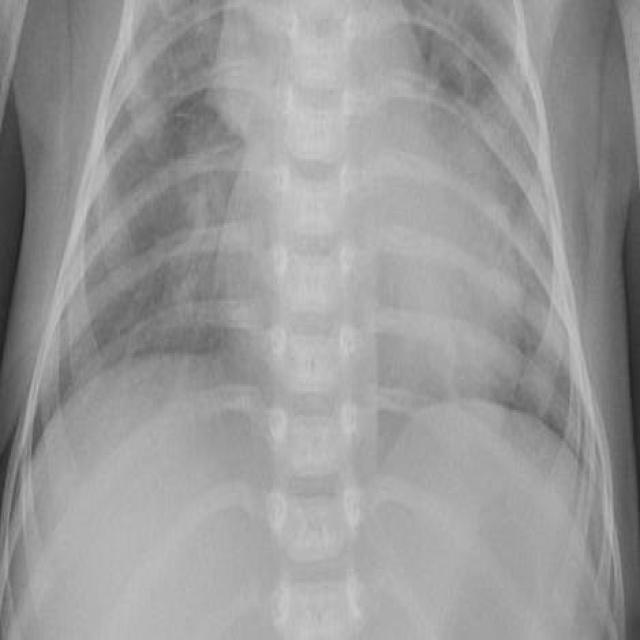low-pneumonia: (155, 136, 243, 335)
